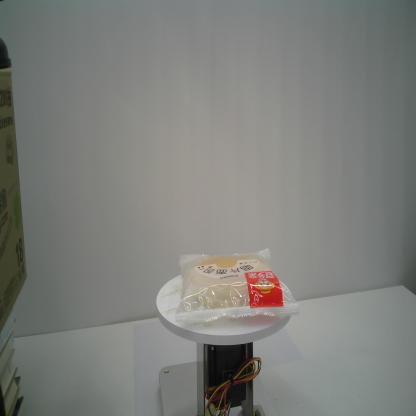Dessert: (175, 247, 300, 323)
